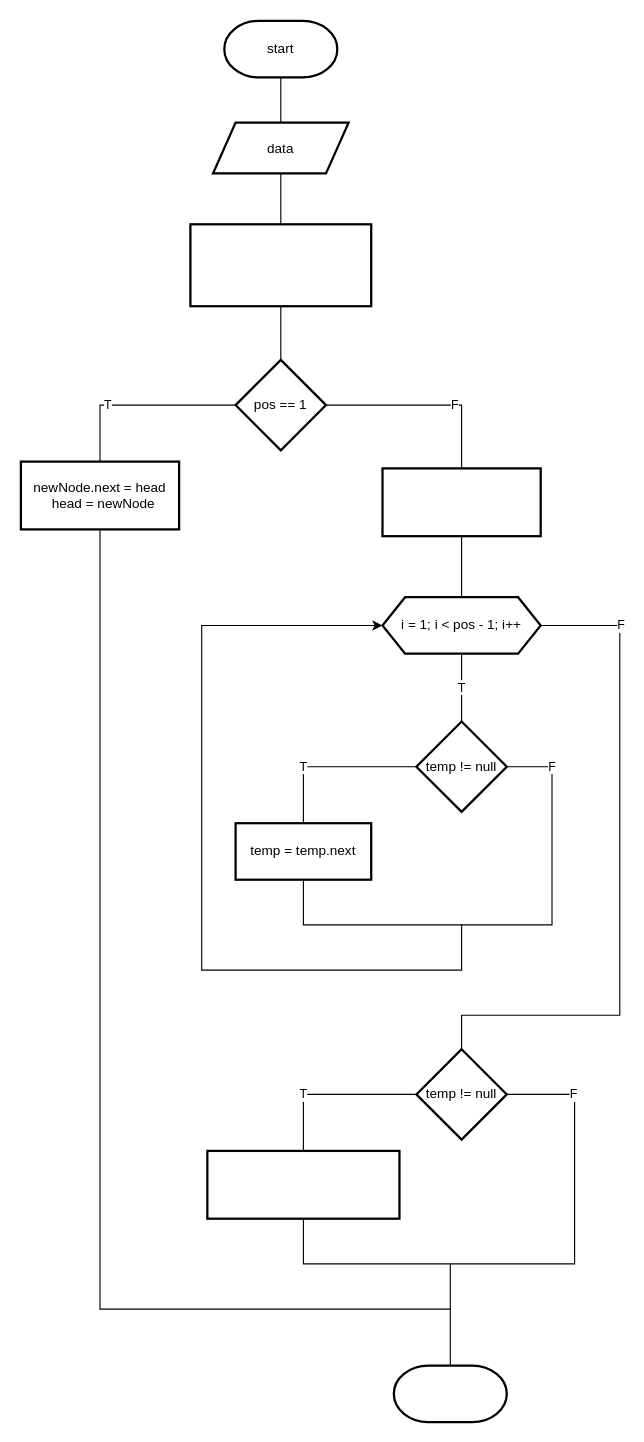
Image size: 644x1442. Some labels were removed from this diagram. The box of each missing label's shape, as (x1, y1, x2, y2) in pixels:
end: (392, 1364, 507, 1423)
newNode.next = temp.next temp.next = newNode: (206, 1149, 400, 1219)
Node newNode newNode.data = data newNode.next = null: (189, 223, 372, 307)
Node temp temp = head: (381, 467, 541, 537)
